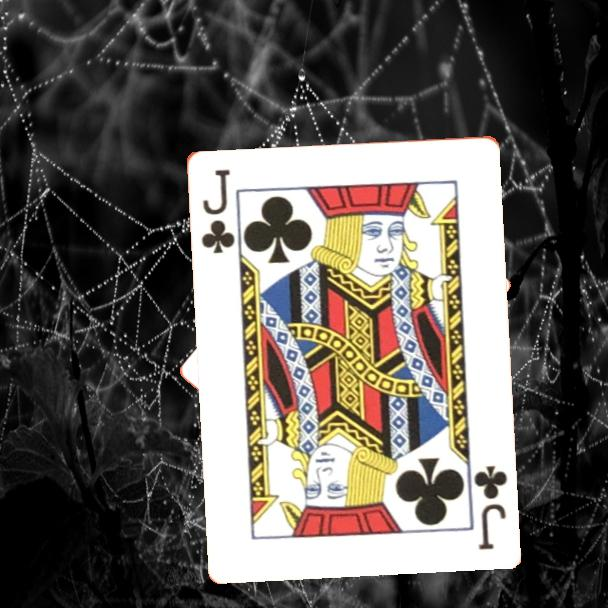c11: (469, 461, 510, 552), (197, 165, 237, 256)
